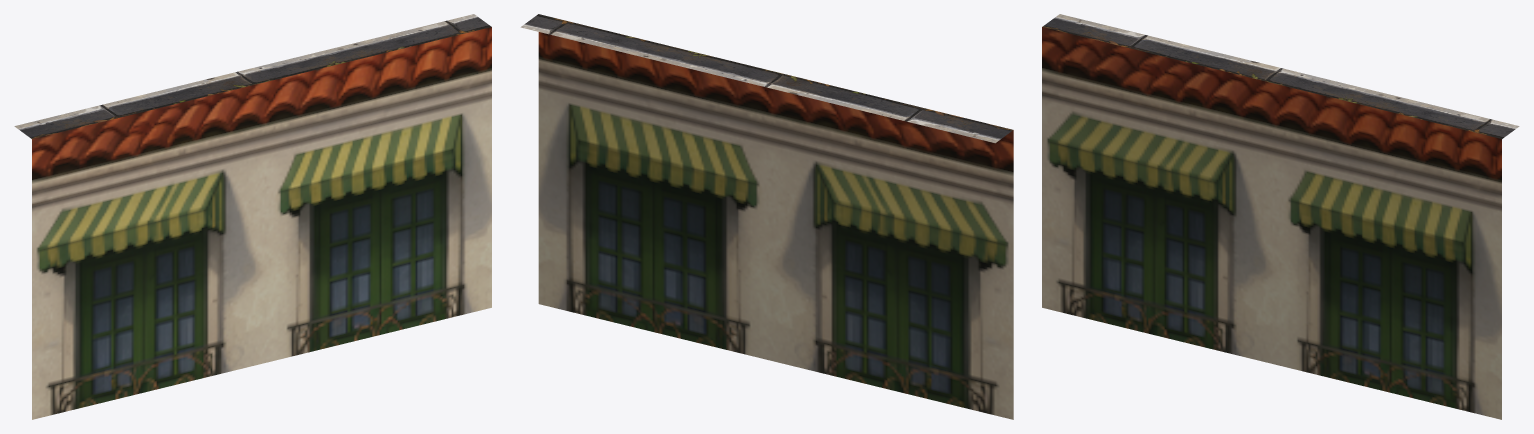
The model's file is IN_HHB_FrenchDoors6.fbx.
3 views of the same model, side by side, from view 1: azimuth 30°, elevation 25°; view 2: azimuth 150°, elevation 25°; view 3: azimuth 330°, elevation 25° (orthographic). The views are drawn at different scales.
Visible parts, largest first — view 1: IN_HHB_FrenchDoors6; view 2: IN_HHB_FrenchDoors6; view 3: IN_HHB_FrenchDoors6.
Part boxes in pixels (x1,y1,x2,y2): IN_HHB_FrenchDoors6: (14, 14, 491, 419); IN_HHB_FrenchDoors6: (520, 14, 1013, 419); IN_HHB_FrenchDoors6: (1042, 14, 1519, 419).
Size of the model in its own units: 6 by 0.4 by 3.5.
1 material, 1 textured.
